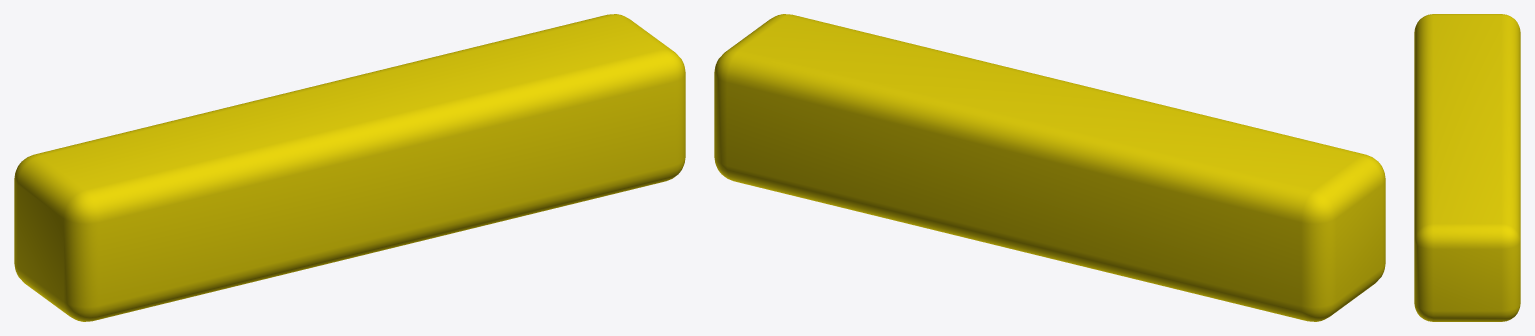
The picture shows the model from 3 angles, left to right: view 1: azimuth 30°, elevation 25°; view 2: azimuth 150°, elevation 25°; view 3: azimuth 270°, elevation 25°; orthographic projection. The views are drawn at different scales.
Visible parts, largest first — view 1: 5; view 2: 5; view 3: 5.
Part boxes in pixels (x1,y1,x2,y2): 5: (14, 14, 685, 321); 5: (714, 14, 1385, 321); 5: (1414, 14, 1520, 321).
Size of the model in its own units: 499 by 100 by 100.
